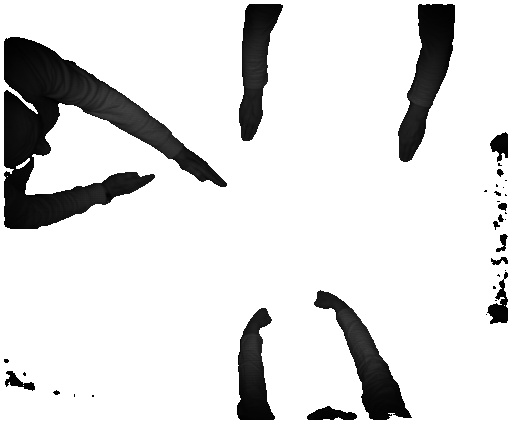fist: (240, 304, 271, 330), (312, 288, 344, 312)
hand: (392, 113, 431, 167), (235, 94, 263, 143)
spine: (179, 149, 231, 191), (108, 168, 159, 207)
